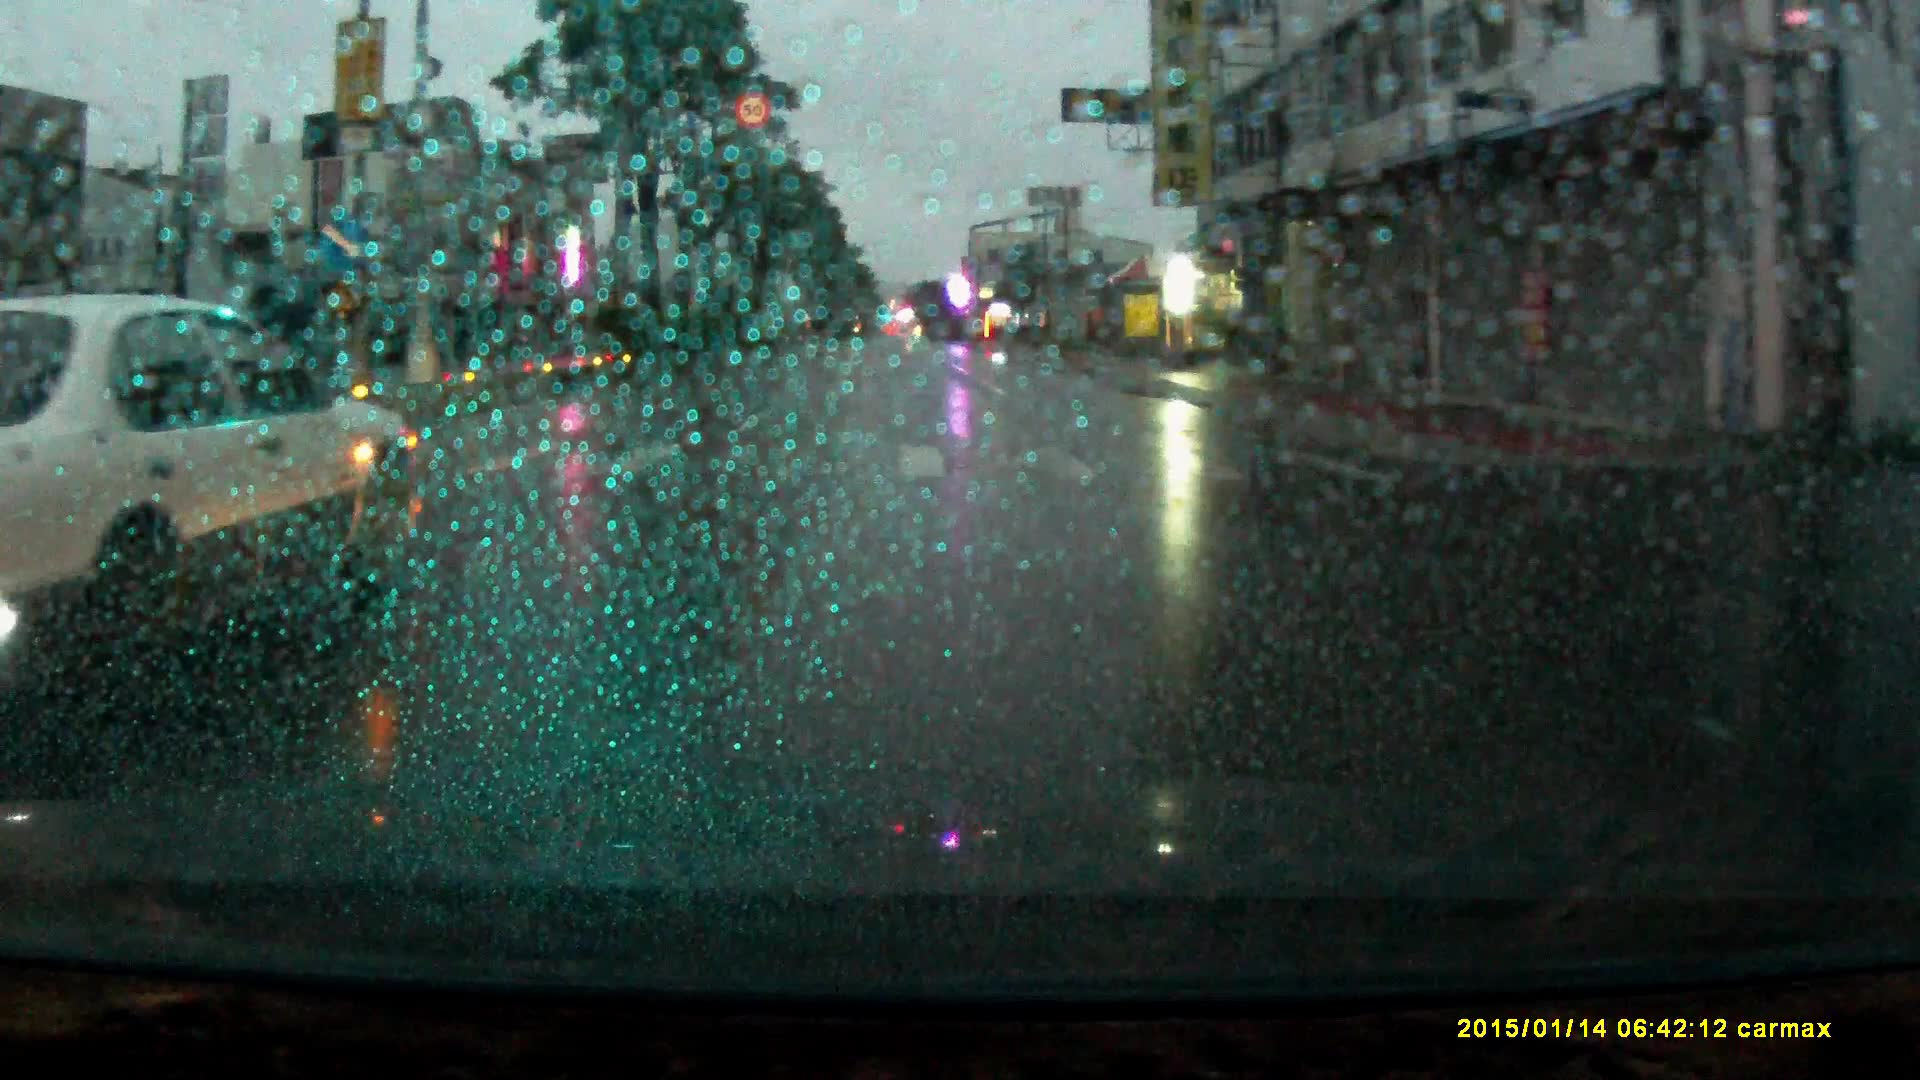vehicle: (1, 291, 433, 675)
